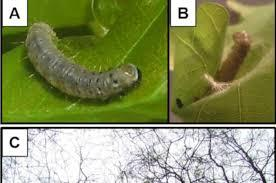Caterpillar: (28, 19, 143, 107)
